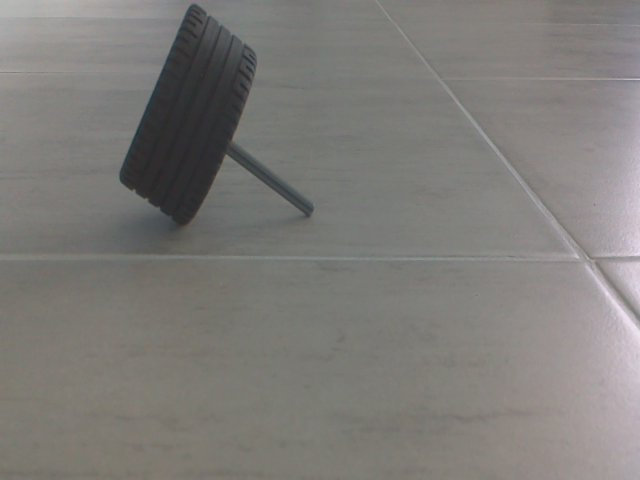Rad+Grau_lang: (115, 3, 318, 235)
